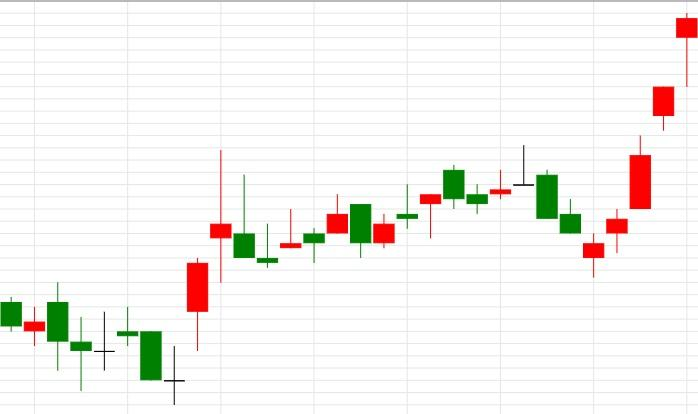shooting_star_fall: (164, 149, 256, 406)
three_white_soldiers_rise: (513, 134, 652, 279)
